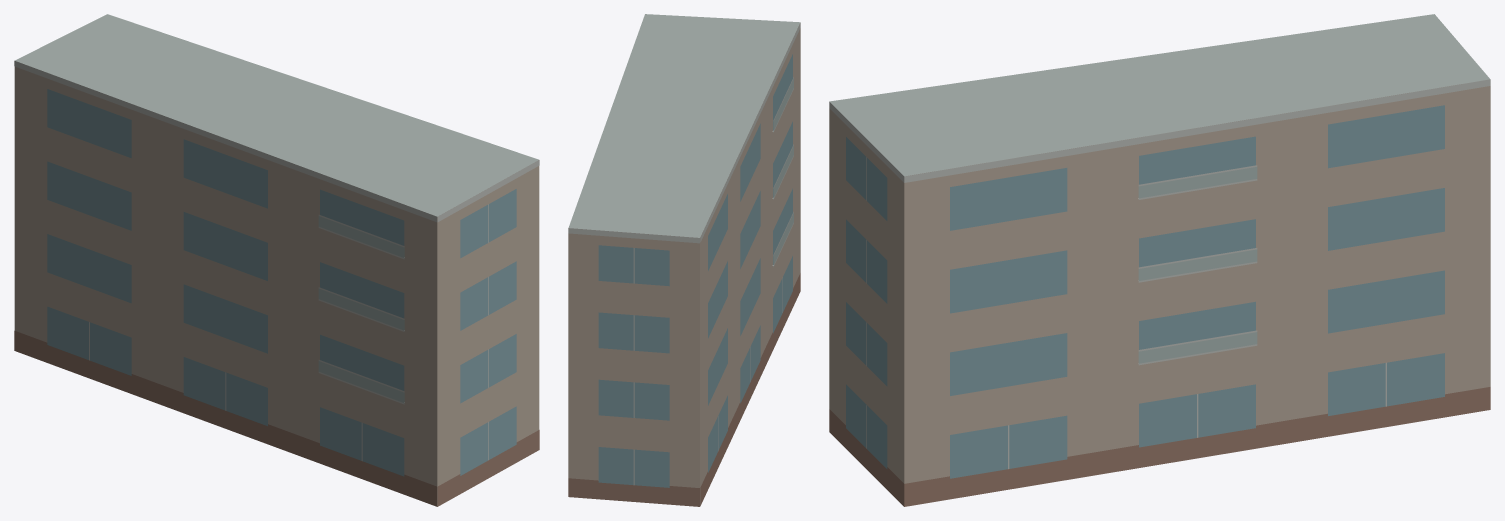
The model's file is survey-upis-32642803.glb.
3 views of the same model, side by side, from view 1: azimuth 30°, elevation 25°; view 2: azimuth 150°, elevation 25°; view 3: azimuth 270°, elevation 25° (orthographic). The views are drawn at different scales.
Visible parts, largest first — view 1: survey-upis-32642803.tmp; view 2: survey-upis-32642803.tmp; view 3: survey-upis-32642803.tmp.
Boxes of the visible parts, x1,y1,x2,y2 form: survey-upis-32642803.tmp: [14, 14, 539, 506]; survey-upis-32642803.tmp: [568, 14, 800, 506]; survey-upis-32642803.tmp: [829, 14, 1490, 506].
Size of the model in its own units: 12.86 by 12.2 by 22.13.
